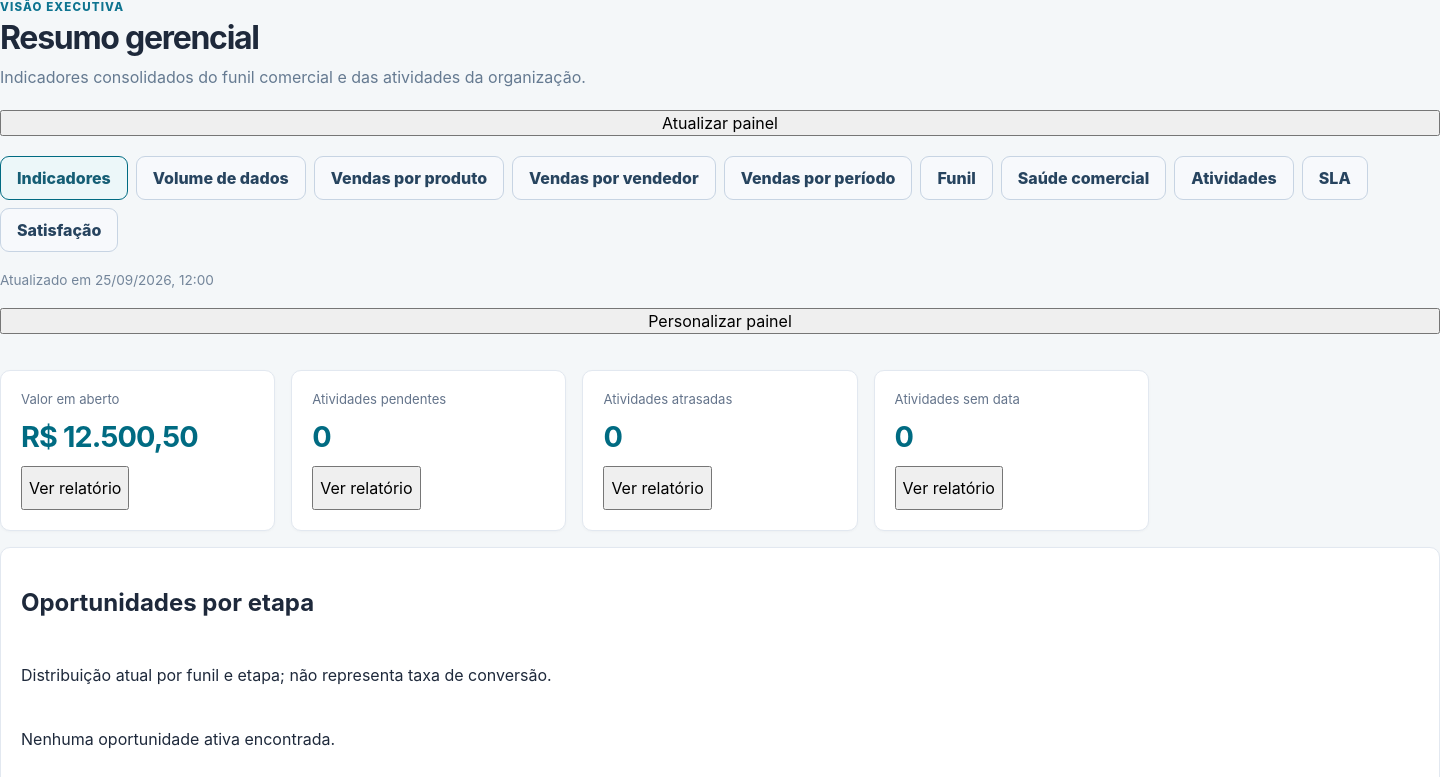
Test: C4.4.2 funnel view › is reachable as the Funil tab of the management summary
expect the text "R$ 12.500,50" is shown: met, box [21,419,198,454]
Click the tab "Funil": coordinates (957, 178) [920,156,993,200]
(page scrolled)
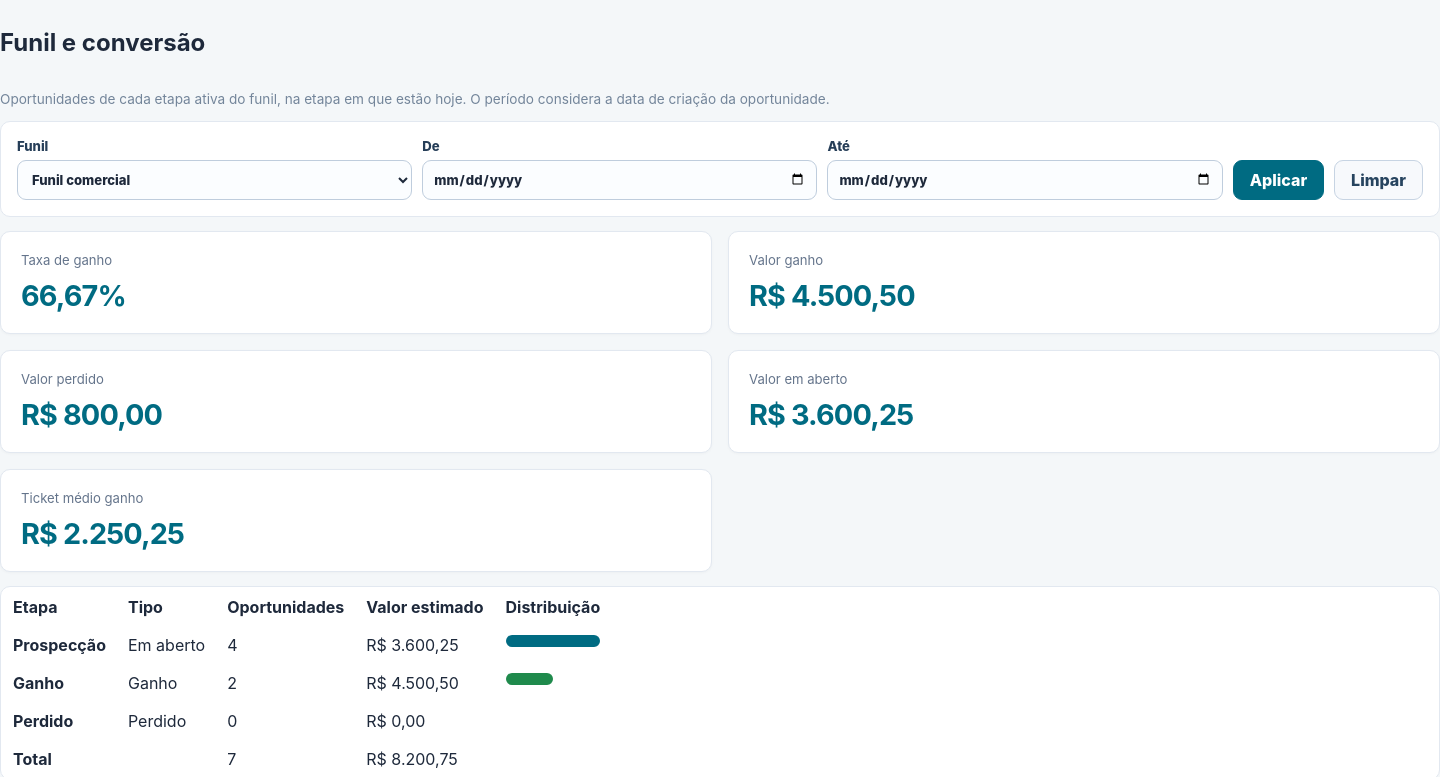
expect the heading "Funil e conversão" is shown: met, box [0,28,205,57]
expect the column heading "Prospecção" is shown: met, box [3,627,116,663]
expect the text "R$ 12.500,50" is gone: met
